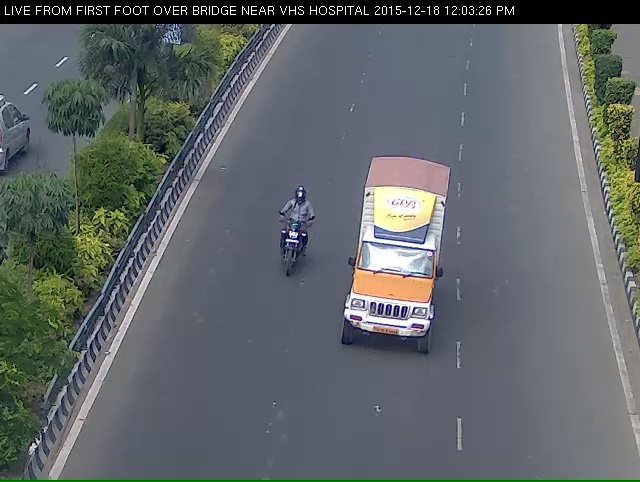Car: (344, 169, 438, 375)
Person: (262, 203, 312, 300)
